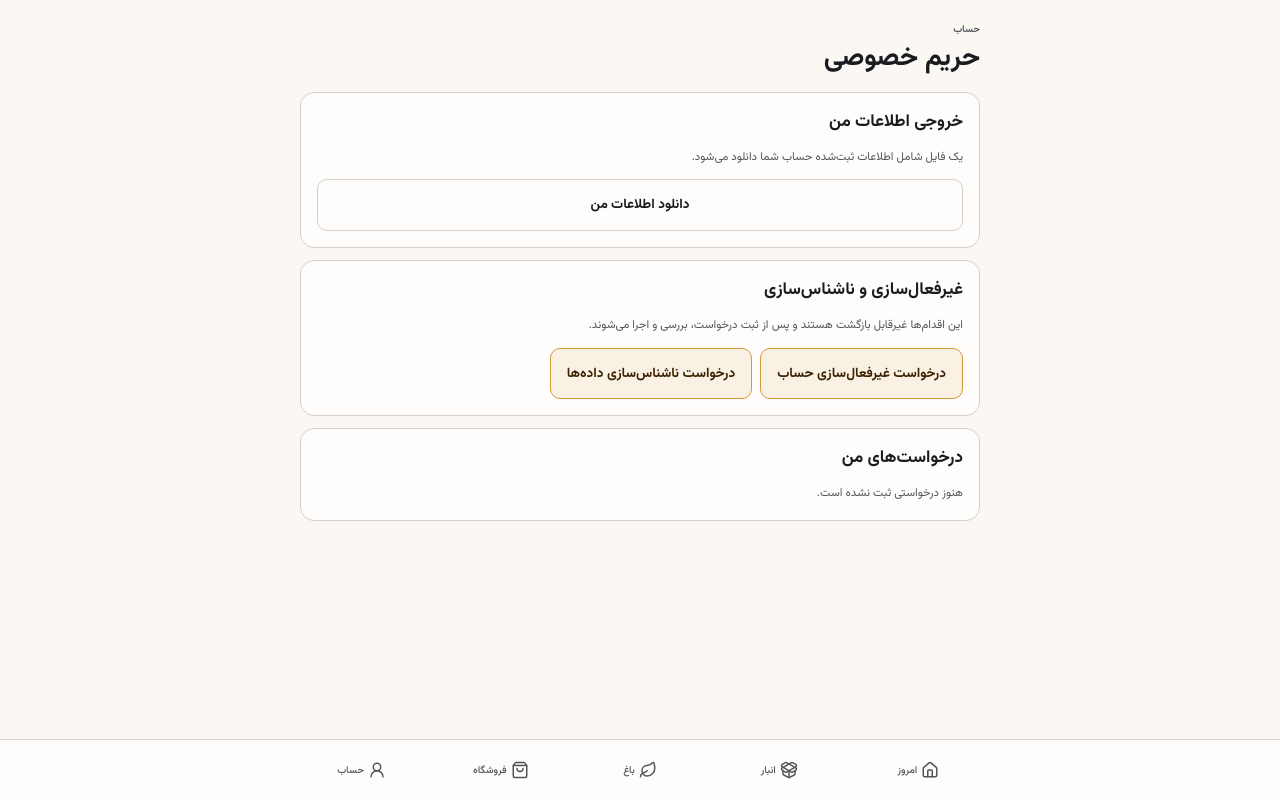
Test: PrivacyCenter › shows a real backend error, not a silent failure, when the request fails
Click the button "درخواست غیرفعال‌سازی حساب".
click(862, 373)  # box 760,348 -> 963,399
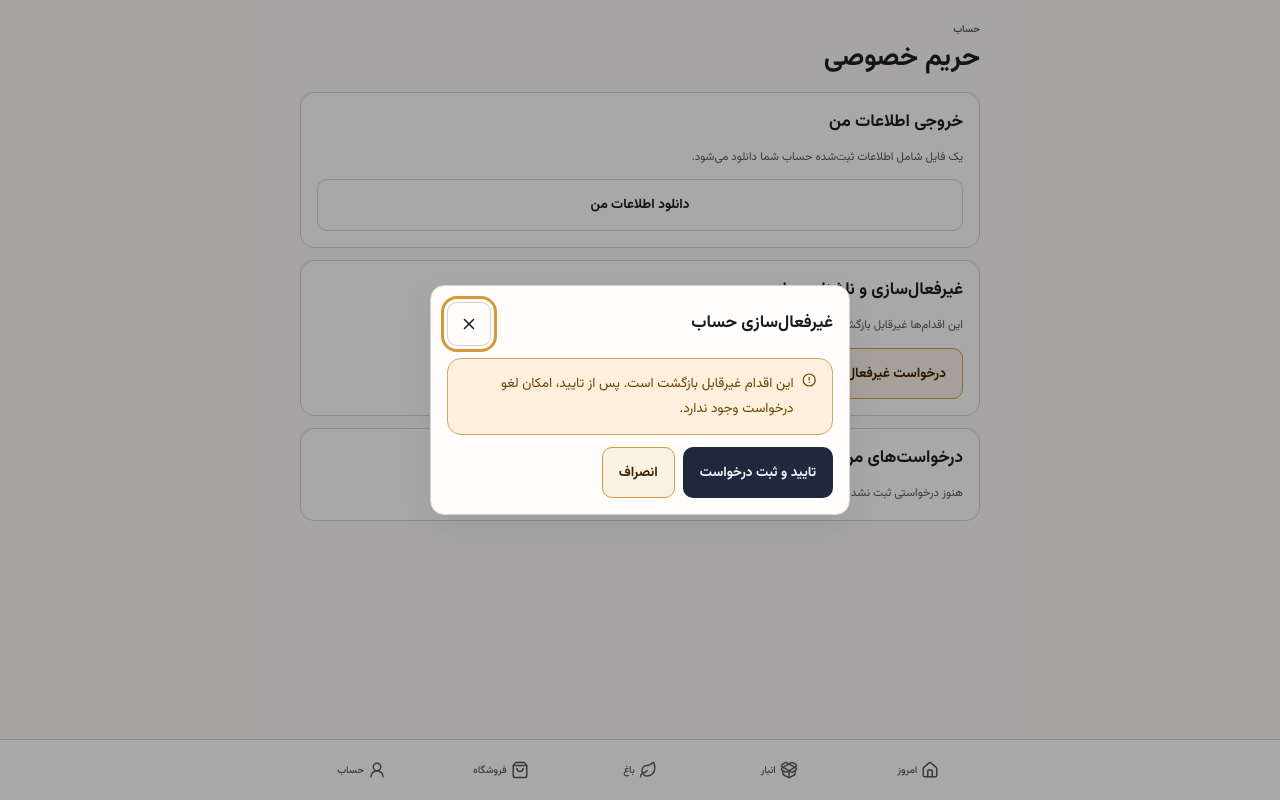
Click the button "تایید و ثبت درخواست".
click(758, 473)  # box 683,447 -> 833,498
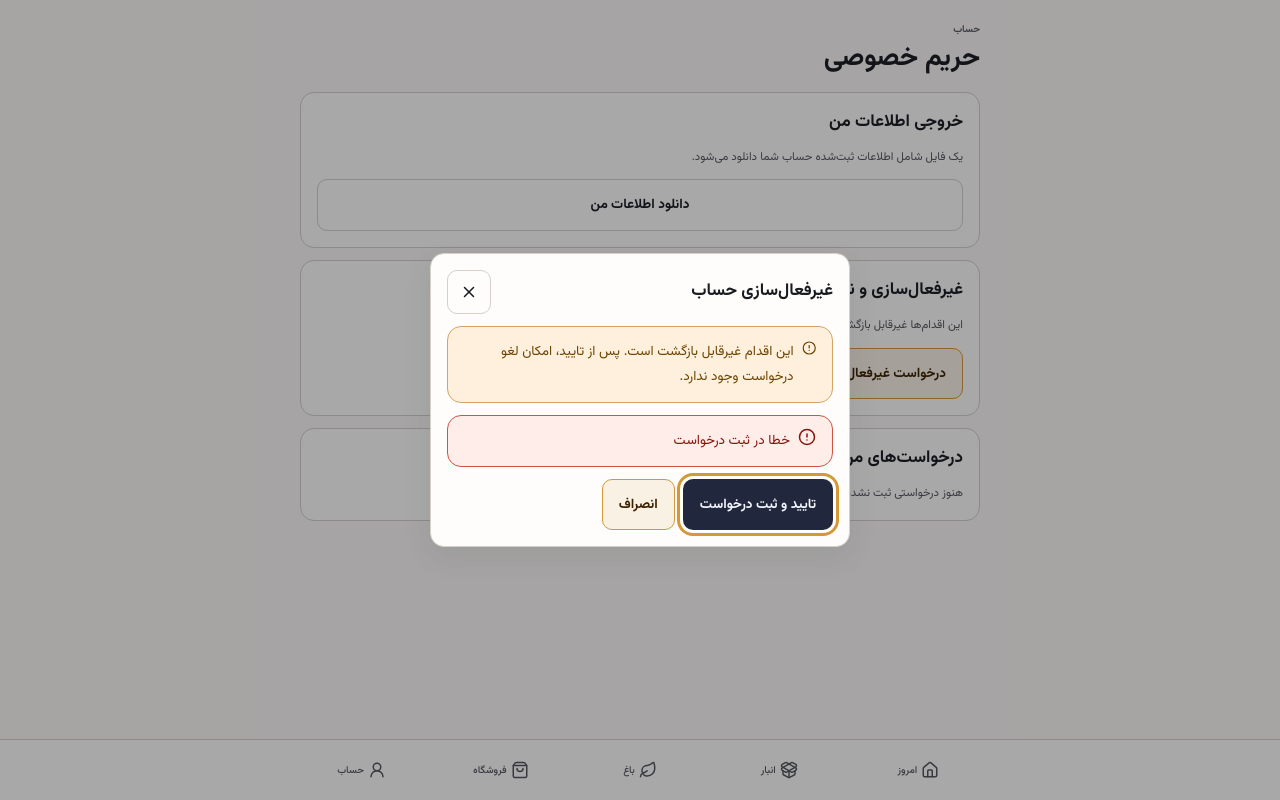
Expected: the text "خطا در ثبت درخواست" is shown, 674,428 -> 790,454
